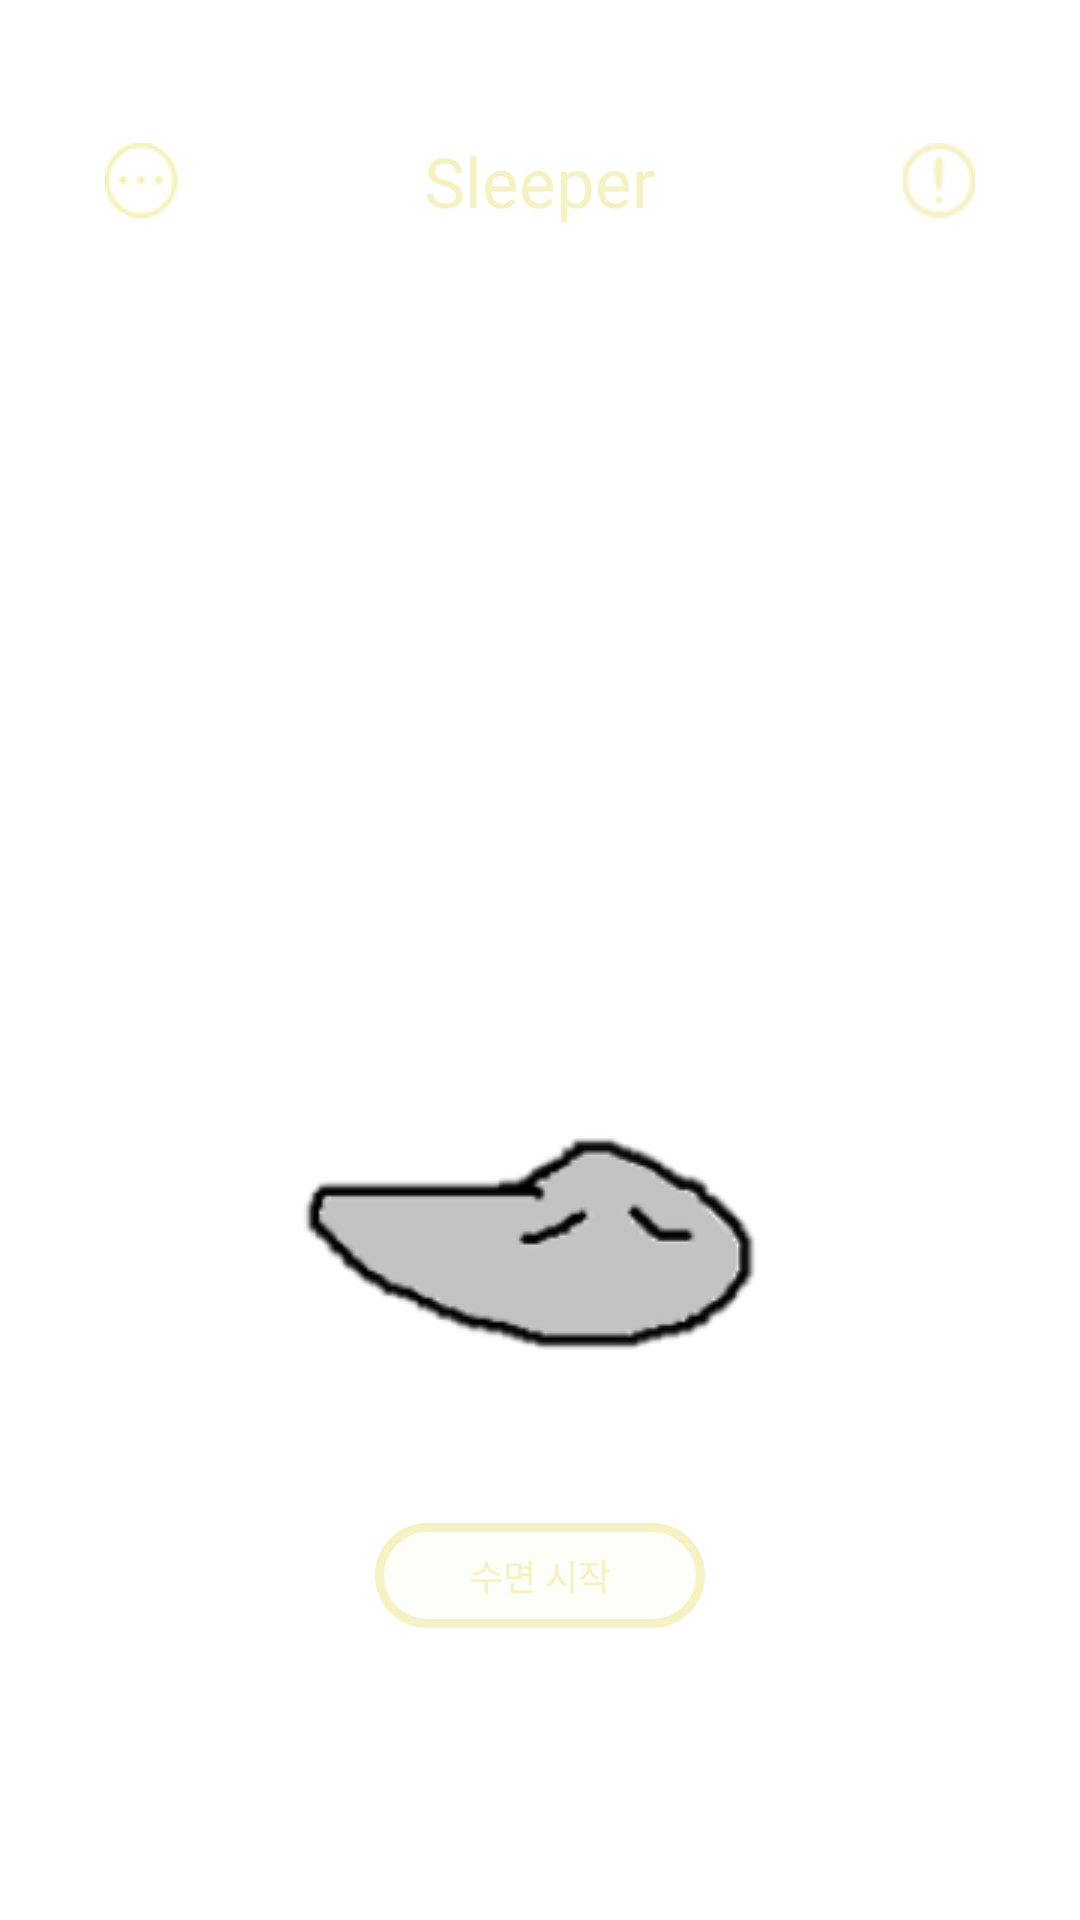

Icon bounding boxes for this 1080x1920 phone screenshot, format (x1, y1, x2, y2):
issue: (903, 143, 975, 218)
show more: (105, 143, 177, 218)
